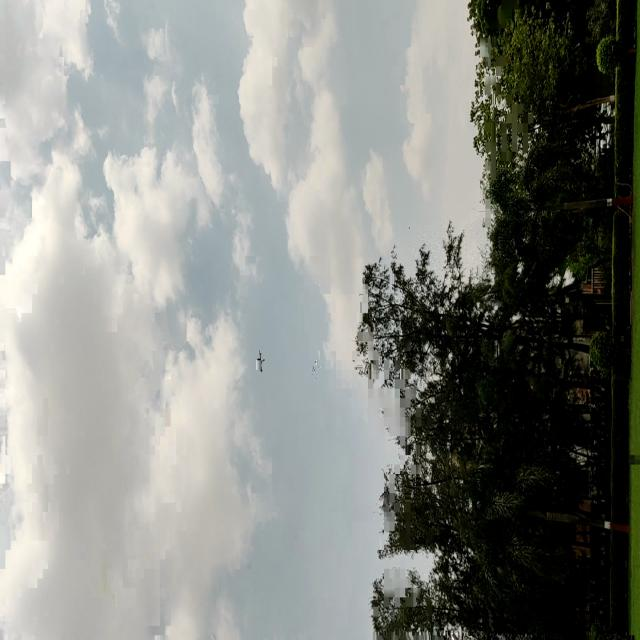drone: (252, 349, 267, 378)
